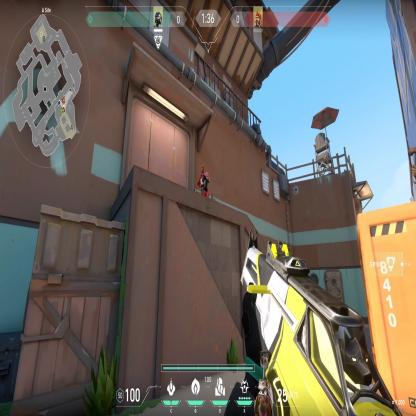enemy: (197, 162, 210, 200)
